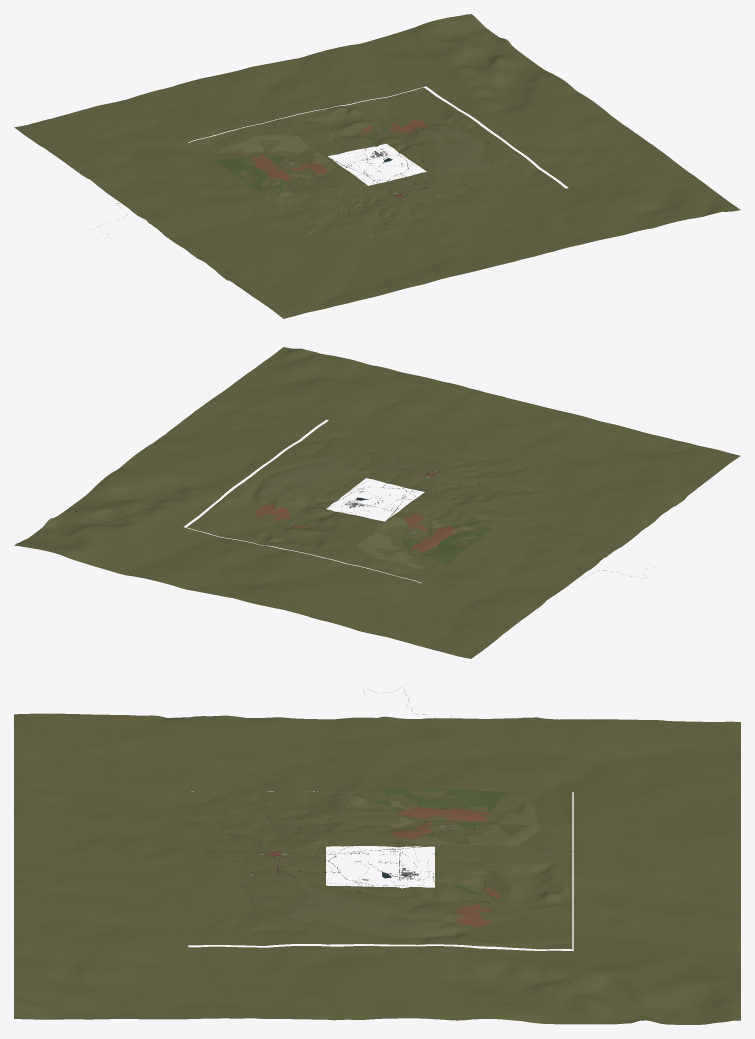
Rendered from sdsc_contexto.glb.
3 renders of one model, top to bottom at view 1: azimuth 30°, elevation 25°; view 2: azimuth 150°, elevation 25°; view 3: azimuth 270°, elevation 25°, orthographic. The views are drawn at different scales.
Visible parts, largest first — view 1: SDSC_CaneSurround_Outer_web, SDSC_CaneSurround_Inner_web, SDSC_Cropland_3_web, SDSC_Cropland_1_web, SDSC_Cropland_2_web, SDSC_Cropland_0_web; view 2: SDSC_CaneSurround_Outer_web, SDSC_CaneSurround_Inner_web, SDSC_Cropland_3_web, SDSC_Cropland_1_web, SDSC_Cropland_2_web, SDSC_Cropland_0_web; view 3: SDSC_CaneSurround_Outer_web, SDSC_CaneSurround_Inner_web, SDSC_Cropland_3_web, SDSC_Cropland_1_web, SDSC_Cropland_0_web, SDSC_Cropland_2_web.
Part boxes in pixels (x1=…): SDSC_CaneSurround_Outer_web: x1=14, y1=14, x2=740, y2=318; SDSC_CaneSurround_Inner_web: x1=189, y1=87, x2=565, y2=246; SDSC_Cropland_3_web: x1=273, y1=126, x2=491, y2=202; SDSC_Cropland_1_web: x1=219, y1=134, x2=330, y2=197; SDSC_Cropland_2_web: x1=250, y1=119, x2=428, y2=180; SDSC_Cropland_0_web: x1=213, y1=132, x2=376, y2=196; SDSC_CaneSurround_Outer_web: x1=14, y1=347, x2=740, y2=658; SDSC_CaneSurround_Inner_web: x1=187, y1=420, x2=563, y2=582; SDSC_Cropland_3_web: x1=261, y1=455, x2=504, y2=539; SDSC_Cropland_1_web: x1=357, y1=514, x2=492, y2=568; SDSC_Cropland_2_web: x1=255, y1=504, x2=454, y2=552; SDSC_Cropland_0_web: x1=303, y1=517, x2=492, y2=564; SDSC_CaneSurround_Outer_web: x1=14, y1=713, x2=740, y2=1024; SDSC_CaneSurround_Inner_web: x1=188, y1=788, x2=572, y2=949; SDSC_Cropland_3_web: x1=288, y1=790, x2=480, y2=932; SDSC_Cropland_1_web: x1=350, y1=795, x2=539, y2=846; SDSC_Cropland_0_web: x1=356, y1=789, x2=506, y2=895; SDSC_Cropland_2_web: x1=391, y1=807, x2=502, y2=927.
Size of the model in its own units: 21756 by 372 by 20000.
63 materials, 2 textured.
